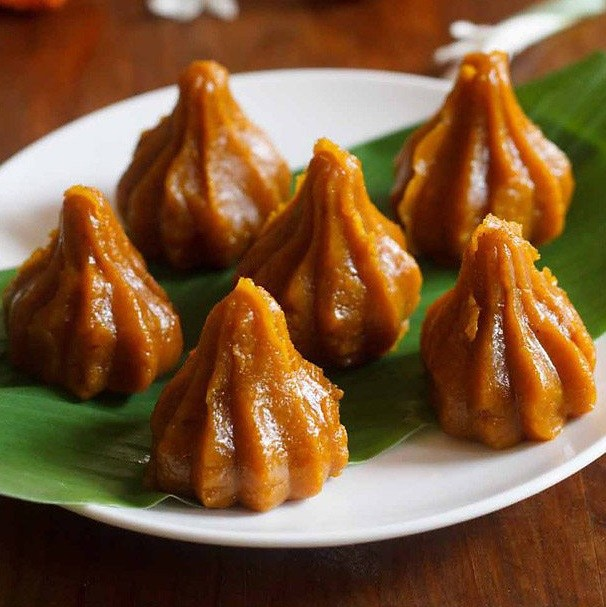modak: (151, 276, 358, 502), (381, 48, 596, 249), (121, 57, 311, 268), (424, 209, 599, 437), (10, 179, 181, 397), (268, 144, 427, 361)
